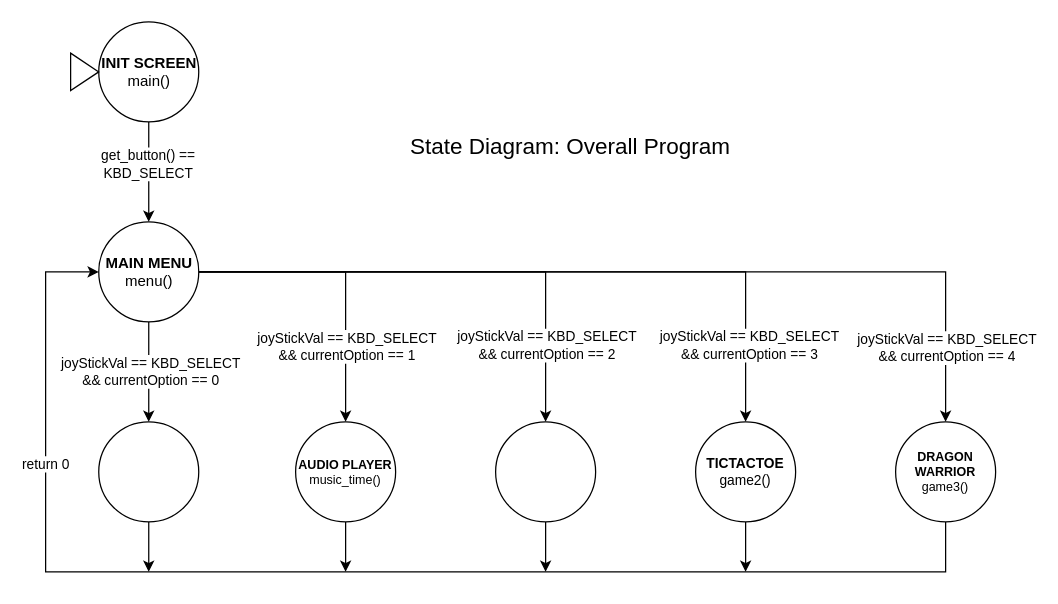
This 1058x604 diagram has some shape labels left out. The shapes that lost their labels are listed below. From the top down, each one's box as (x1, y1, x2, y2) in pixels, then its label:
(98, 421, 199, 522): PHOTO GALLERY showPhotos()
(494, 421, 596, 522): MAZE GAME game1()
